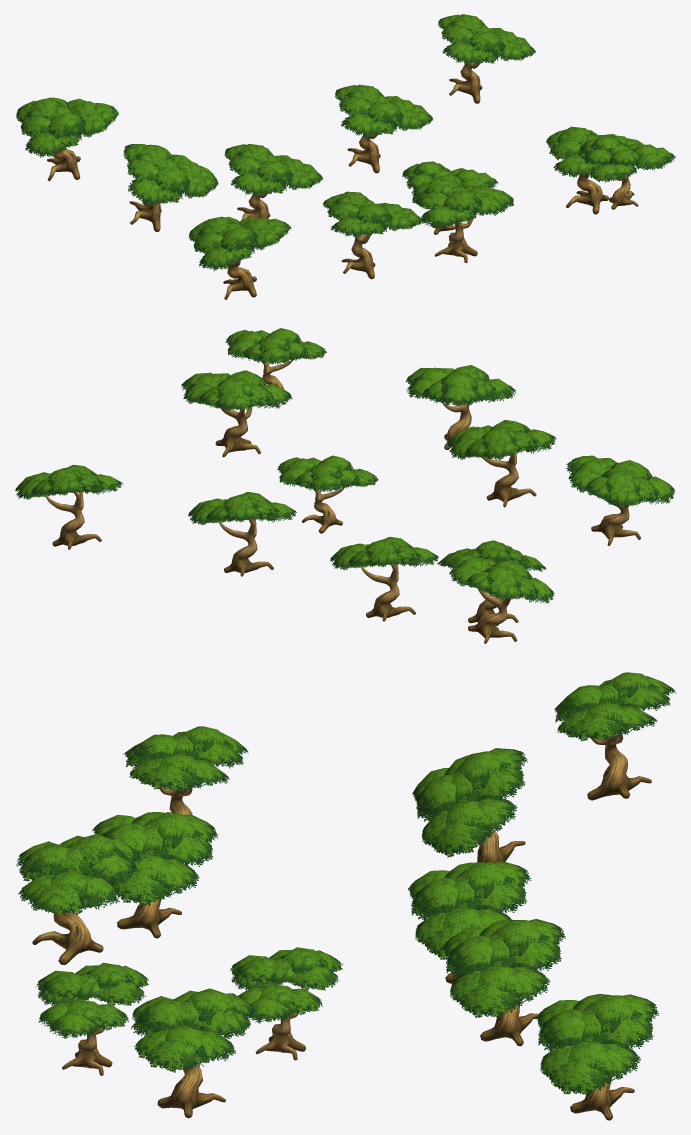
The model's file is LV1_trees.fbx.
3 renders of one model, top to bottom at view 1: azimuth 30°, elevation 25°; view 2: azimuth 150°, elevation 25°; view 3: azimuth 270°, elevation 25°, orthographic. The views are drawn at different scales.
Visible parts, largest first — view 1: Trunk; view 2: Trunk; view 3: Trunk.
Part boxes in pixels (left/top/right/bottom): Trunk: left=16, top=14, right=675, bottom=299; Trunk: left=15, top=328, right=675, bottom=643; Trunk: left=16, top=672, right=675, bottom=1120.
Bounding box in the file's own units: 3848 × 927 × 2917.
